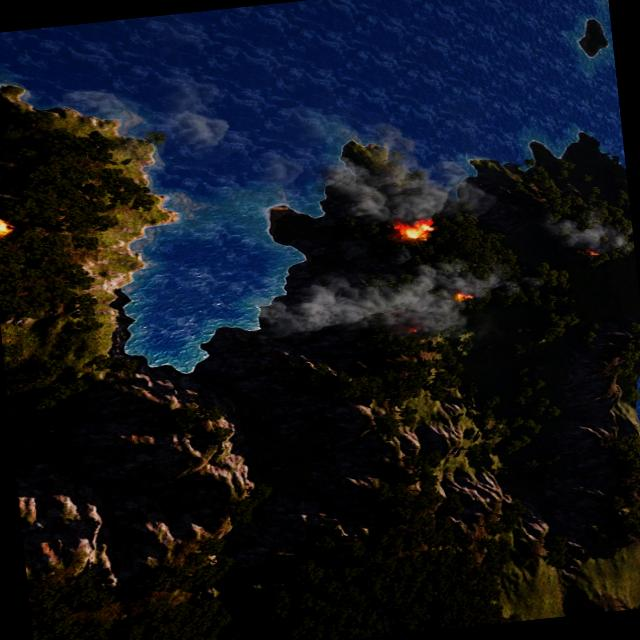fire: (393, 220, 436, 244), (0, 214, 11, 237), (451, 291, 472, 303), (404, 326, 420, 335), (584, 249, 600, 256)
smoke: (52, 48, 497, 262), (249, 238, 519, 359), (541, 211, 633, 261)
